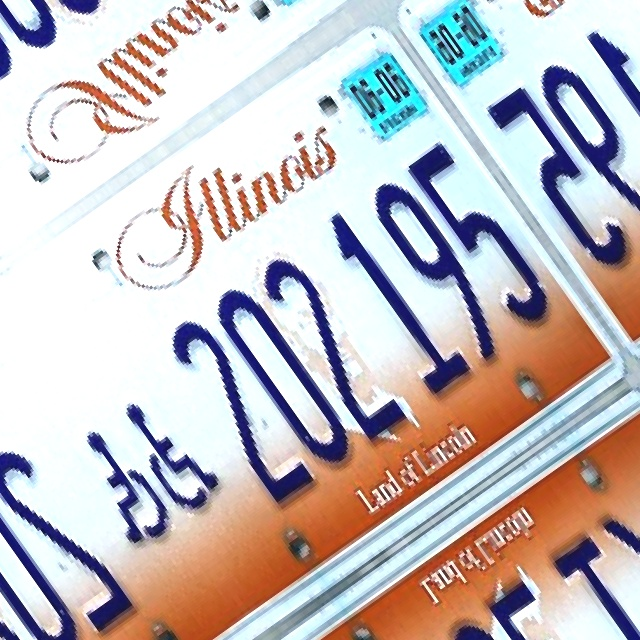ISA: (60, 416, 181, 557), (108, 382, 229, 523)
